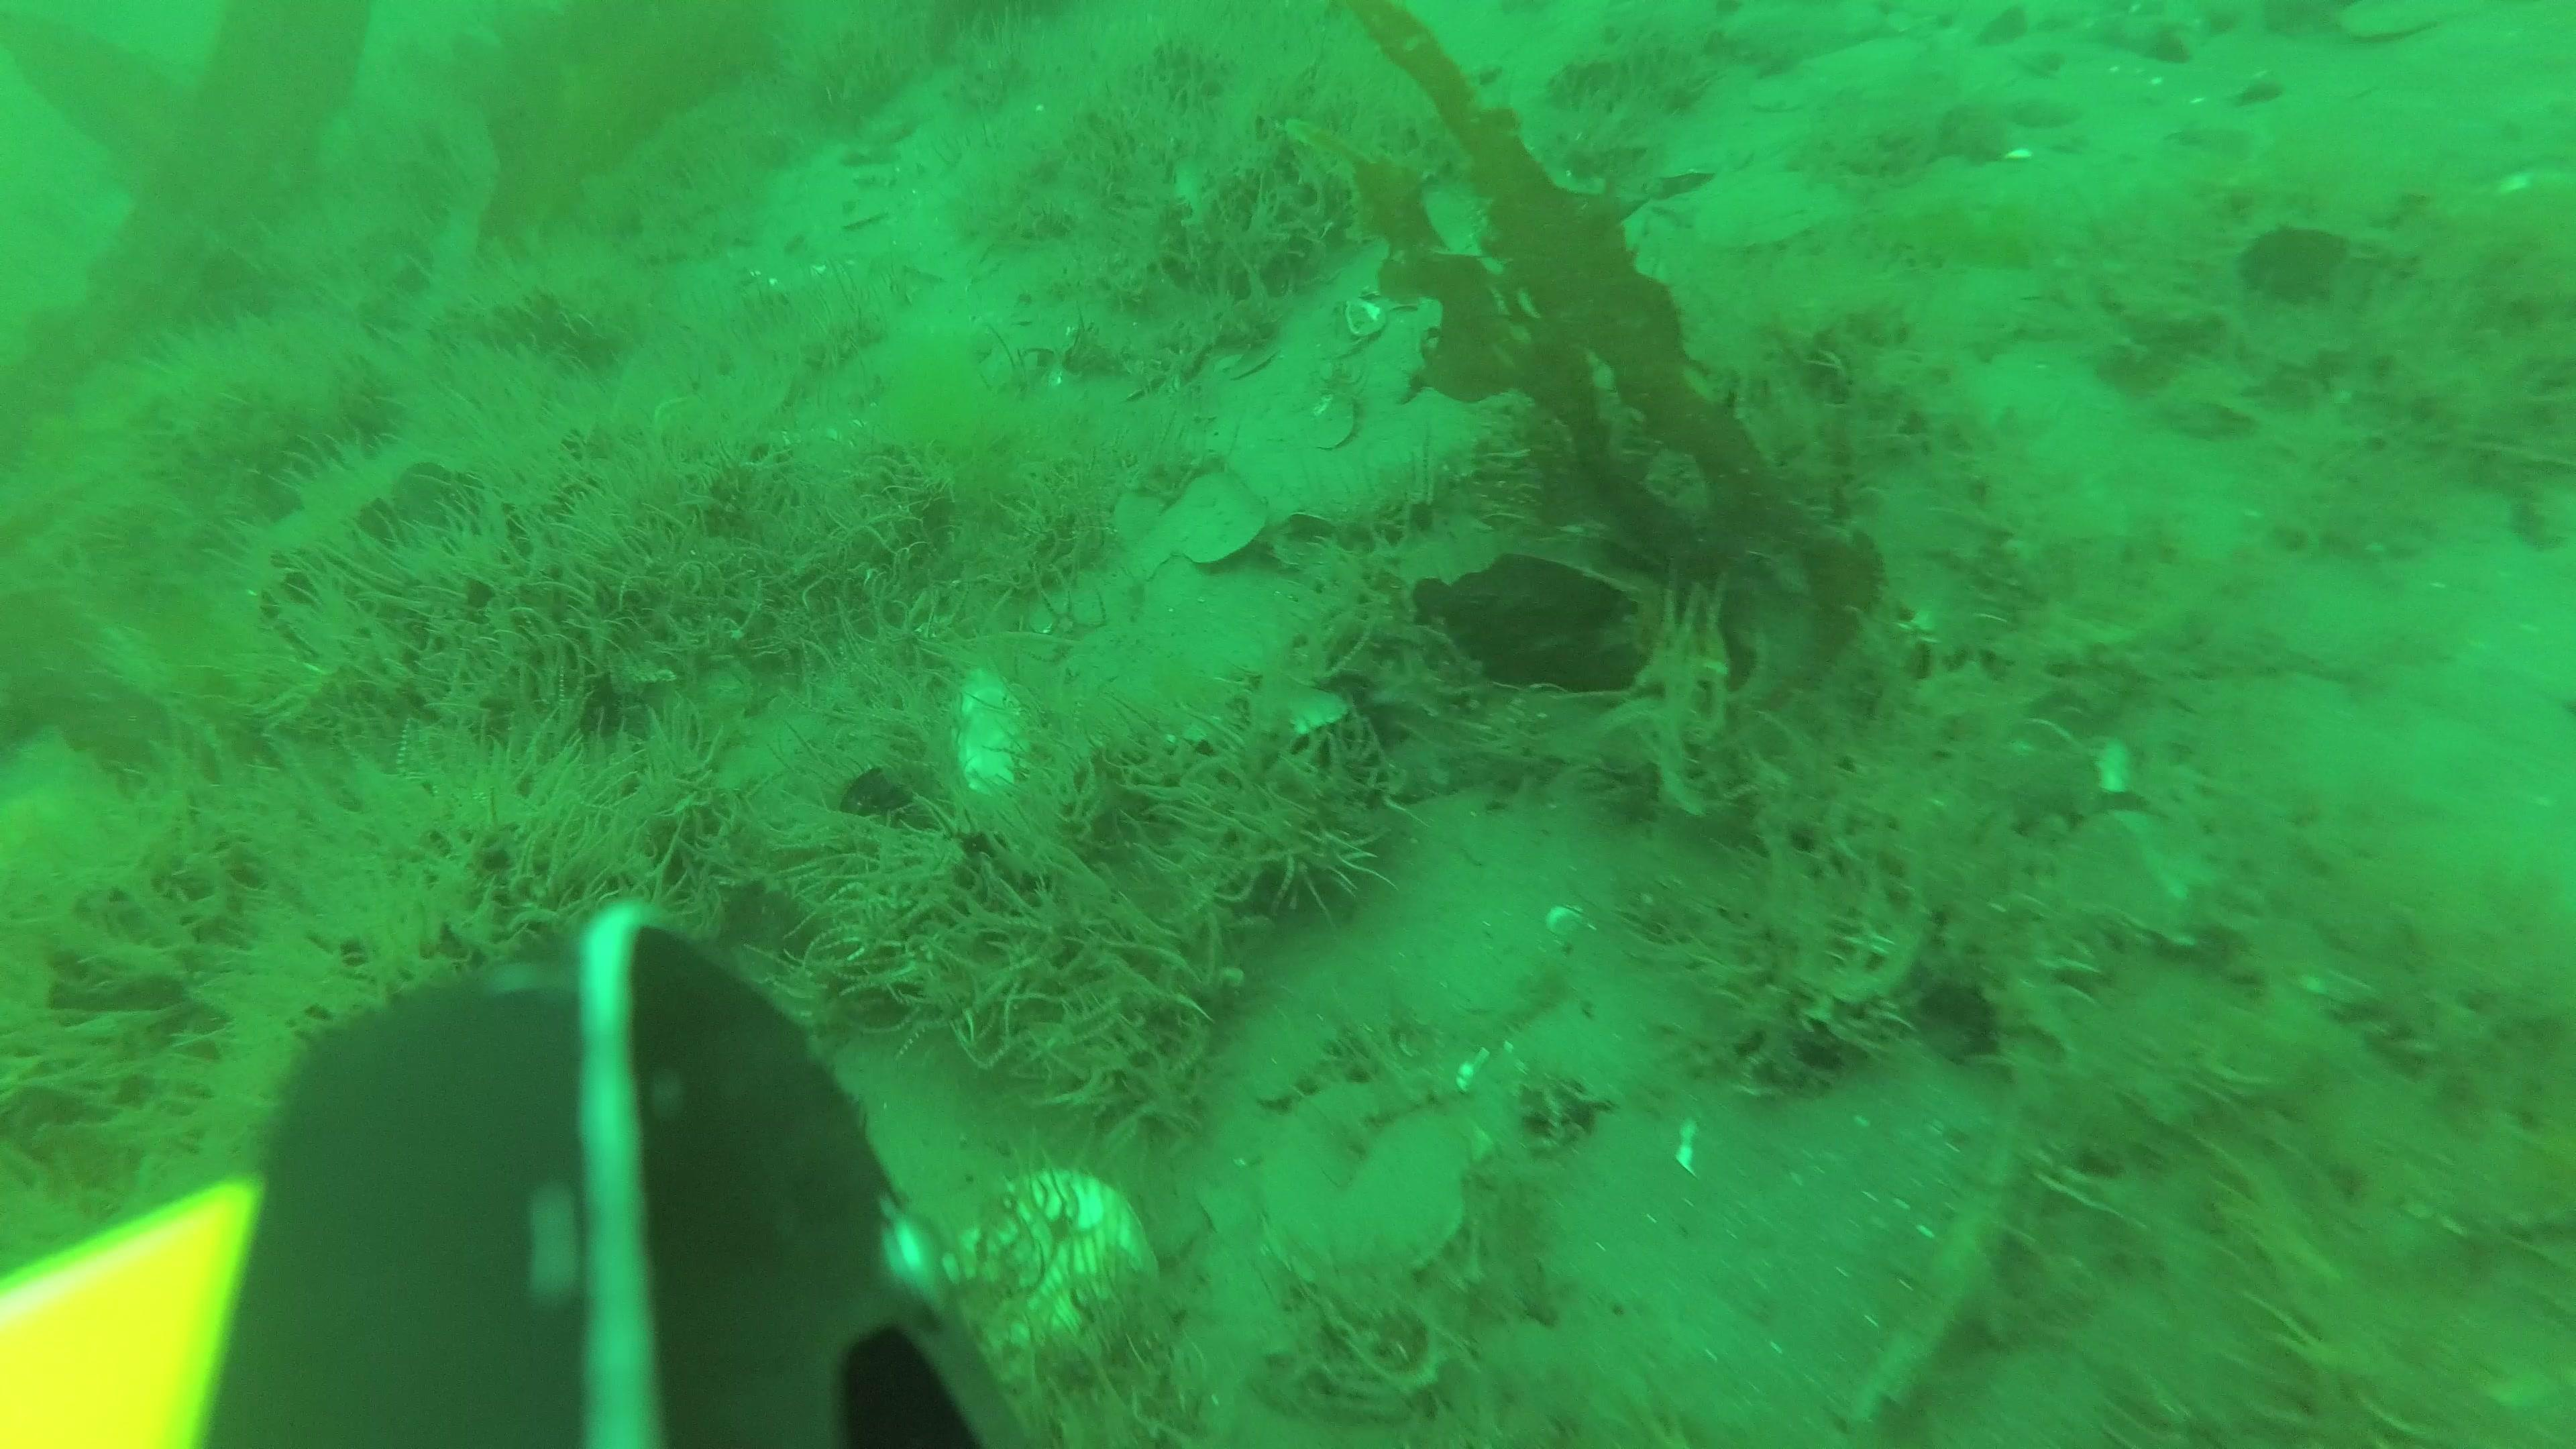scallop: (1261, 1083, 1470, 1283), (952, 1184, 1152, 1371), (943, 669, 1044, 800)
